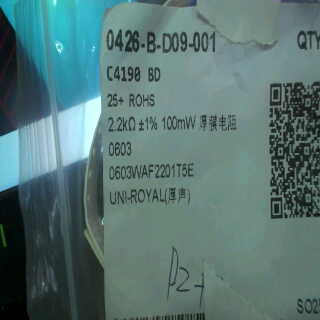2.2kR: (105, 113, 137, 137)
